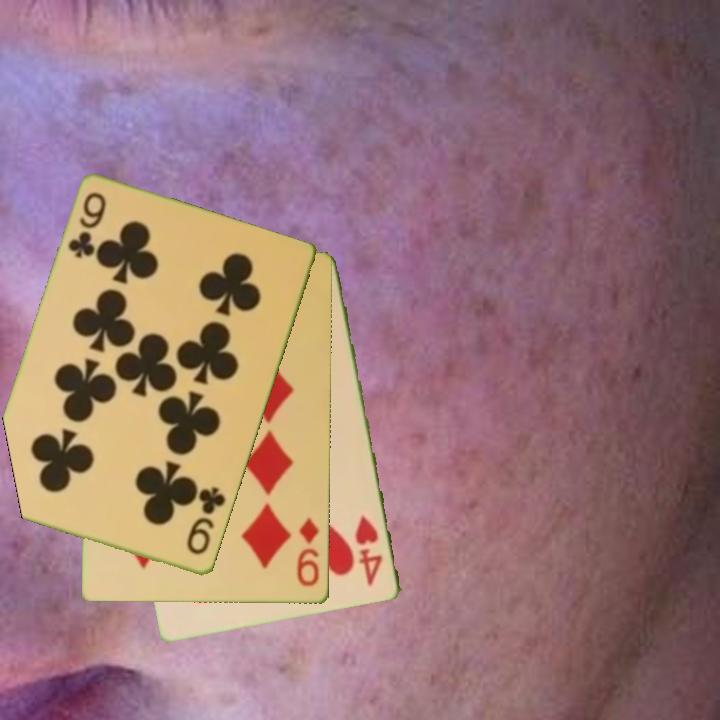4h: (352, 511, 386, 589)
9c: (183, 484, 229, 559), (65, 189, 110, 262)
9d: (294, 514, 323, 589)
